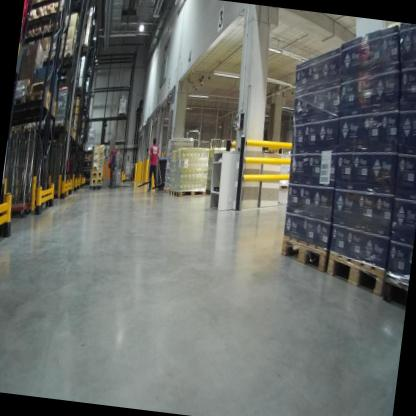forklift: (87, 116, 119, 190)
pallet: (320, 244, 388, 299), (278, 230, 328, 274), (378, 260, 409, 309), (25, 0, 55, 43), (20, 89, 59, 119), (35, 0, 65, 38), (40, 45, 61, 73), (172, 185, 206, 201), (55, 48, 73, 72), (21, 18, 35, 44), (65, 0, 87, 12), (47, 117, 65, 131), (12, 91, 25, 108), (22, 121, 36, 134), (35, 120, 50, 131), (9, 123, 21, 135), (88, 182, 103, 191), (73, 84, 84, 94), (161, 186, 170, 195), (166, 187, 175, 195)
pallet_truck: (108, 153, 139, 192)
